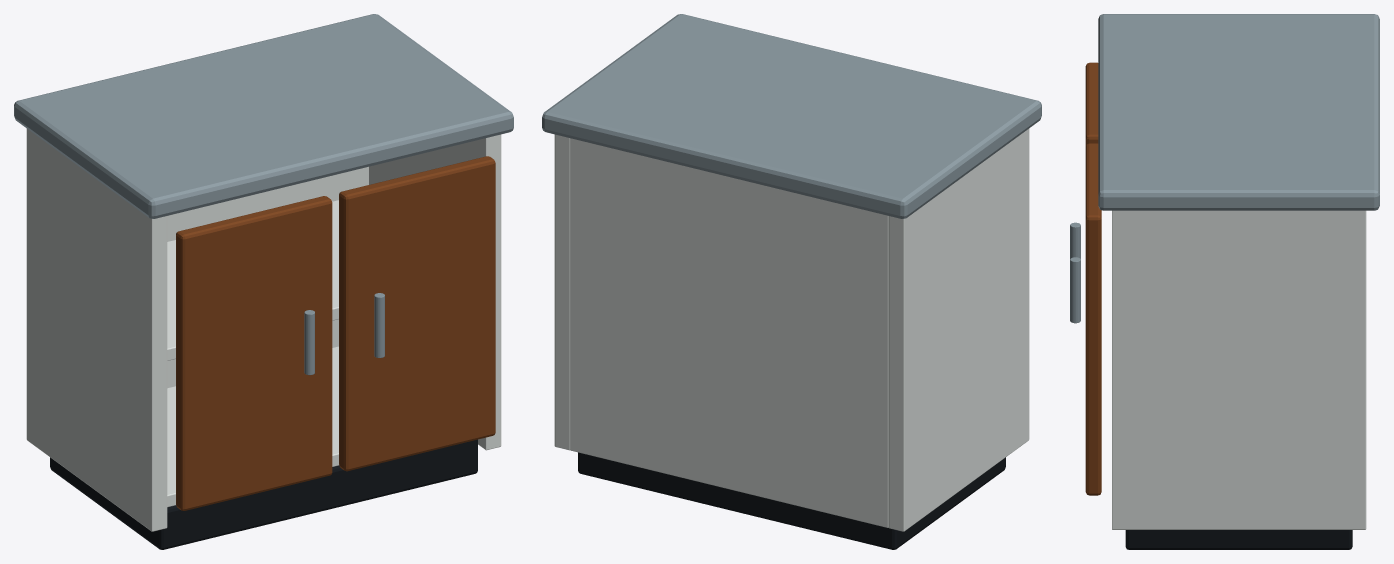
3 views of the same model, side by side, from view 1: azimuth 30°, elevation 25°; view 2: azimuth 150°, elevation 25°; view 3: azimuth 270°, elevation 25° (orthographic).
Parts seen in each view (by area): view 1: COUNTER_Top, BODY_Side.001, DOOR_Panel.001, DOOR_Panel, PLINTH, BODY_Side, BODY_Back, SHELF, SHELF.001, HANDLE, HANDLE.001; view 2: BODY_Back, COUNTER_Top, BODY_Side.001, PLINTH, BODY_Side; view 3: BODY_Side, COUNTER_Top, DOOR_Panel.001, PLINTH, DOOR_Panel, HANDLE.001, HANDLE.
Boxes of the visible parts, left/top/right/bottom form: COUNTER_Top: left=14, top=14, right=513, bottom=218; BODY_Side.001: left=26, top=128, right=167, bottom=531; DOOR_Panel.001: left=339, top=156, right=495, bottom=471; DOOR_Panel: left=176, top=196, right=332, bottom=510; PLINTH: left=50, top=439, right=477, bottom=549; BODY_Side: left=369, top=134, right=501, bottom=450; BODY_Back: left=167, top=166, right=368, bottom=388; SHELF: left=167, top=346, right=339, bottom=507; SHELF.001: left=167, top=200, right=338, bottom=360; HANDLE: left=304, top=310, right=314, bottom=375; HANDLE.001: left=374, top=293, right=384, bottom=357; BODY_Back: left=570, top=138, right=888, bottom=527; COUNTER_Top: left=542, top=14, right=1041, bottom=218; BODY_Side.001: left=888, top=128, right=1029, bottom=531; PLINTH: left=578, top=452, right=1005, bottom=549; BODY_Side: left=554, top=134, right=570, bottom=450; BODY_Side: left=1112, top=210, right=1366, bottom=529; COUNTER_Top: left=1098, top=14, right=1379, bottom=210; DOOR_Panel.001: left=1085, top=143, right=1101, bottom=495; PLINTH: left=1125, top=530, right=1352, bottom=549; DOOR_Panel: left=1085, top=62, right=1098, bottom=146; HANDLE.001: left=1070, top=257, right=1080, bottom=323; HANDLE: left=1070, top=222, right=1080, bottom=259.
Bounding box in the file's own units: 0.94 × 0.9 × 0.682.
